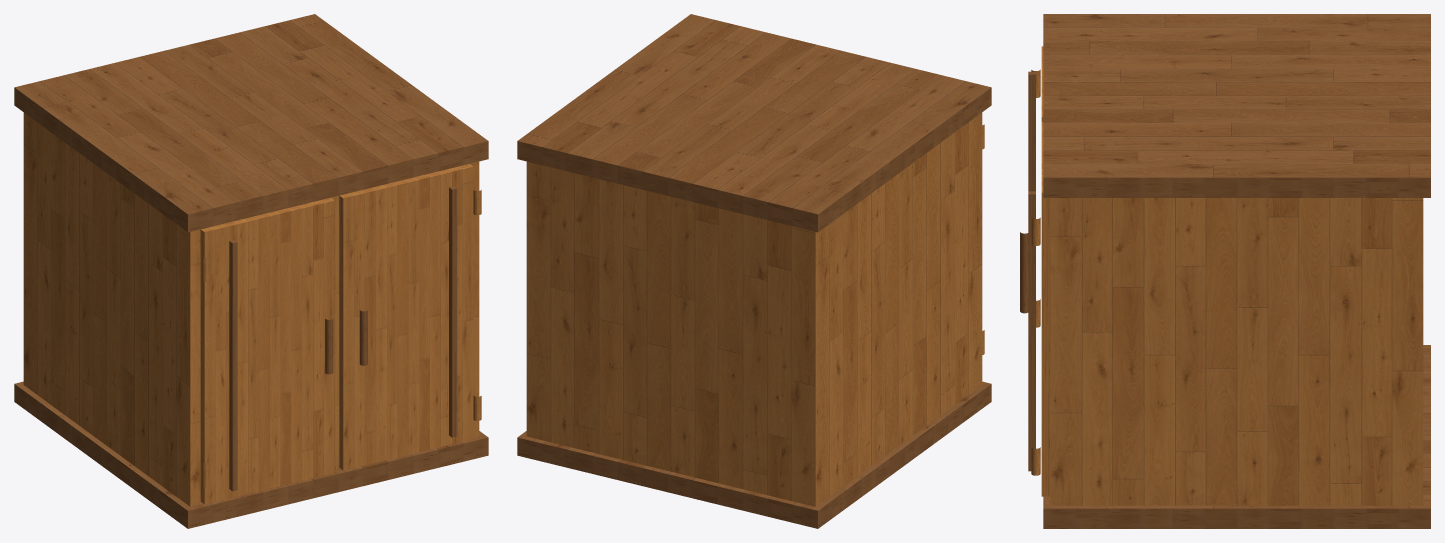
The model's file is wardrobe.gltf.
3 renders of one model, left to right at view 1: azimuth 30°, elevation 25°; view 2: azimuth 150°, elevation 25°; view 3: azimuth 270°, elevation 25°, orthographic. The views are drawn at different scales.
Parts seen in each view (by area): view 1: top_trim, body, doorR, doorL, bottom_trim, grain2, grain1; view 2: body, top_trim, bottom_trim; view 3: body, top_trim, bottom_trim, doorR, grain2, grain1, handleR.
Boxes of the visible parts, <box> form: top_trim: <box>14,14,488,232</box>; body: <box>23,112,479,506</box>; doorR: <box>339,164,473,470</box>; doorL: <box>200,197,334,504</box>; bottom_trim: <box>14,381,488,528</box>; grain2: <box>449,186,457,437</box>; grain1: <box>229,239,237,491</box>; body: <box>526,112,982,506</box>; top_trim: <box>517,14,991,232</box>; bottom_trim: <box>517,381,991,528</box>; body: <box>1050,198,1423,505</box>; top_trim: <box>1043,14,1430,197</box>; bottom_trim: <box>1043,345,1430,528</box>; doorR: <box>1041,122,1050,496</box>; grain2: <box>1028,191,1035,471</box>; grain1: <box>1028,71,1035,191</box>; handleR: <box>1020,251,1028,313</box>.
Bounding box in the file's own units: 1.04 × 1.04 × 1.1.
Materials: 3 (3 with a texture image).
